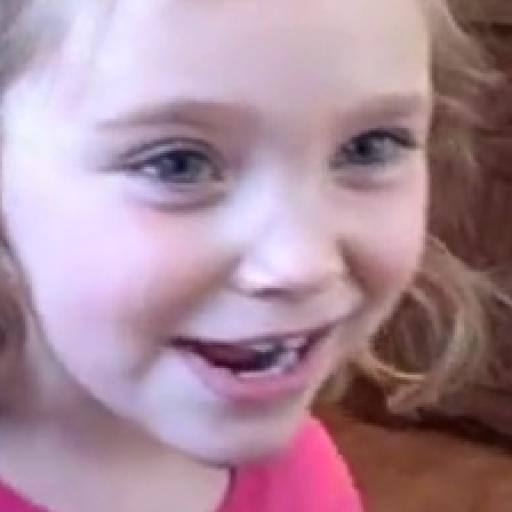Autism: (32, 0, 464, 460)
